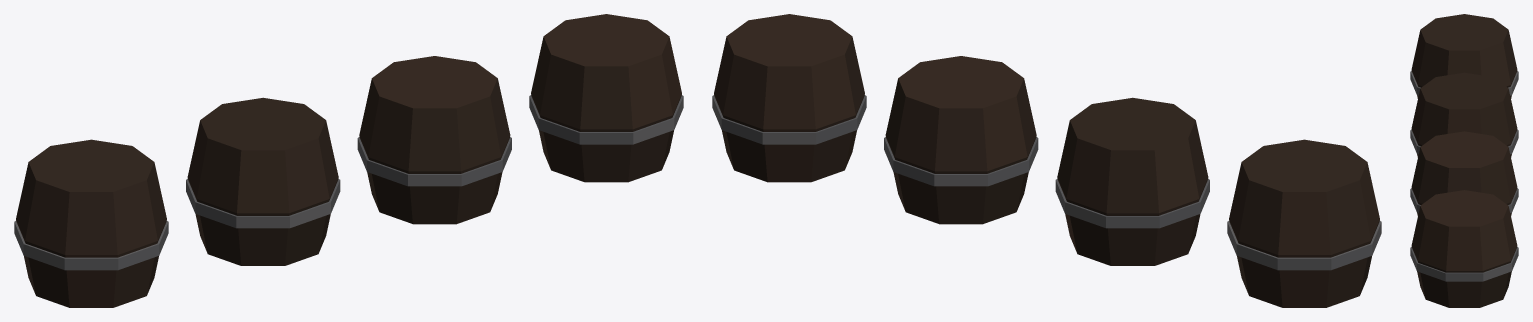
The model's file is walk_prop_goods_gunpowder.glb.
The picture shows the model from 3 angles, left to right: view 1: azimuth 30°, elevation 25°; view 2: azimuth 150°, elevation 25°; view 3: azimuth 270°, elevation 25°; orthographic projection. The views are drawn at different scales.
Visible parts, largest first — view 1: walk_prop_goods_gunpowder; view 2: walk_prop_goods_gunpowder; view 3: walk_prop_goods_gunpowder.
Boxes of the visible parts, x1,y1,x2,y2 form: walk_prop_goods_gunpowder: (14, 14, 683, 307); walk_prop_goods_gunpowder: (712, 14, 1381, 307); walk_prop_goods_gunpowder: (1410, 14, 1518, 307).
Size of the model in its own units: 2.34 by 0.4 by 0.4826.
2 materials, 2 textured.
